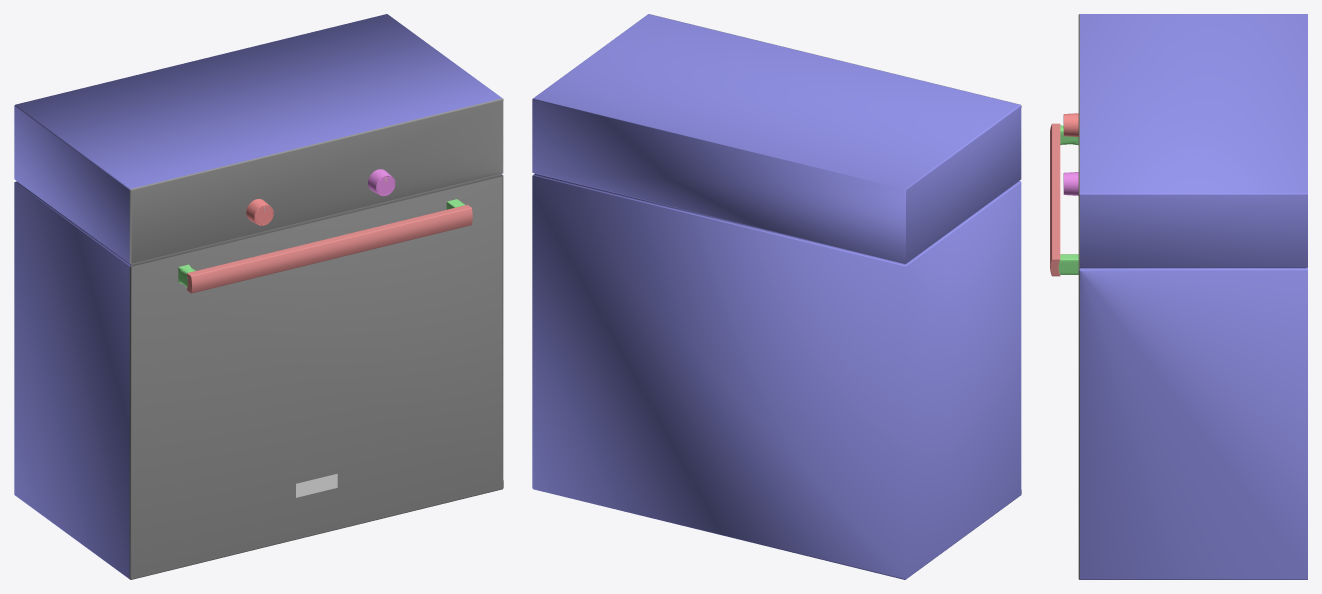
The model's file is oven1.gltf.
3 views of the same model, side by side, from view 1: azimuth 30°, elevation 25°; view 2: azimuth 150°, elevation 25°; view 3: azimuth 270°, elevation 25° (orthographic).
Parts seen in each view (by area): view 1: oven1; view 2: oven1; view 3: oven1.
Boxes of the visible parts, <box> form: oven1: <box>14,14,503,579</box>; oven1: <box>532,14,1021,579</box>; oven1: <box>1050,14,1307,579</box>.
Bounding box in the file's own units: 1.87 × 1.87 × 1.13.
